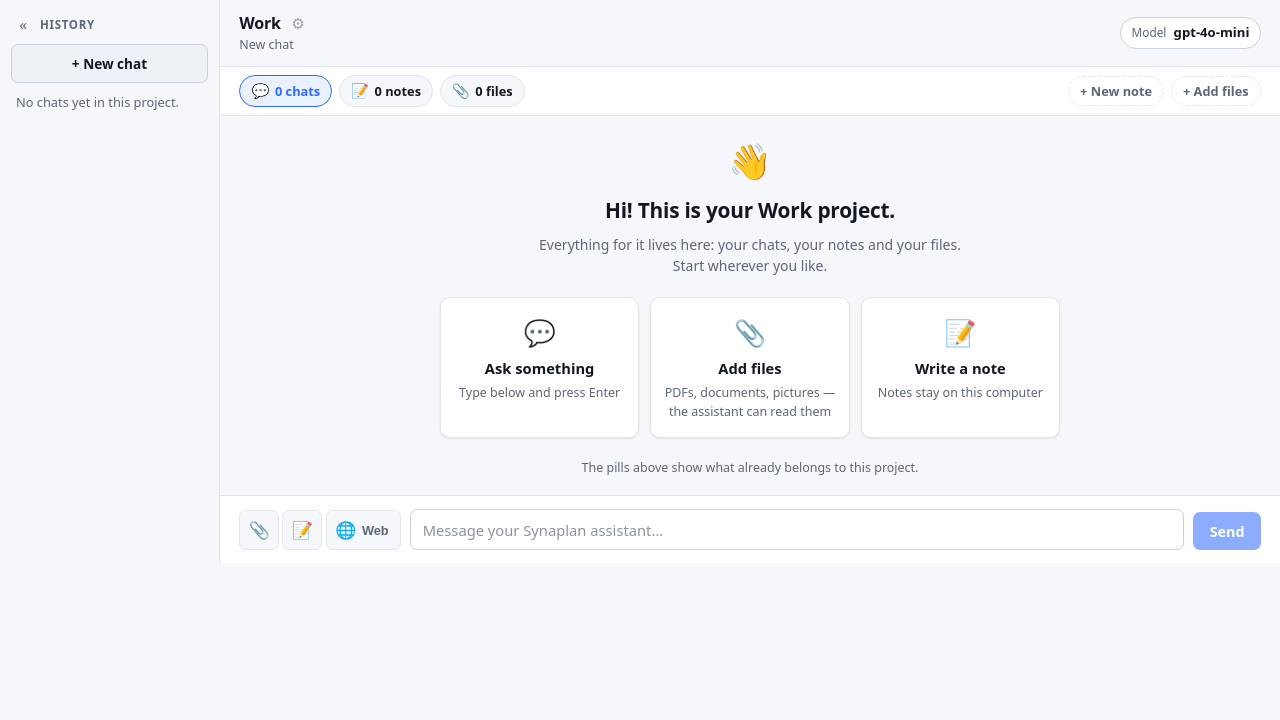
Test: ChatView › renders streamed tokens into an assistant message
The image size is (1280, 720).
Type "Ping" into the text box with placeholder "Message your Synaplan assistant…".
click(797, 530); type("Ping")  # box [410,509,1184,550]
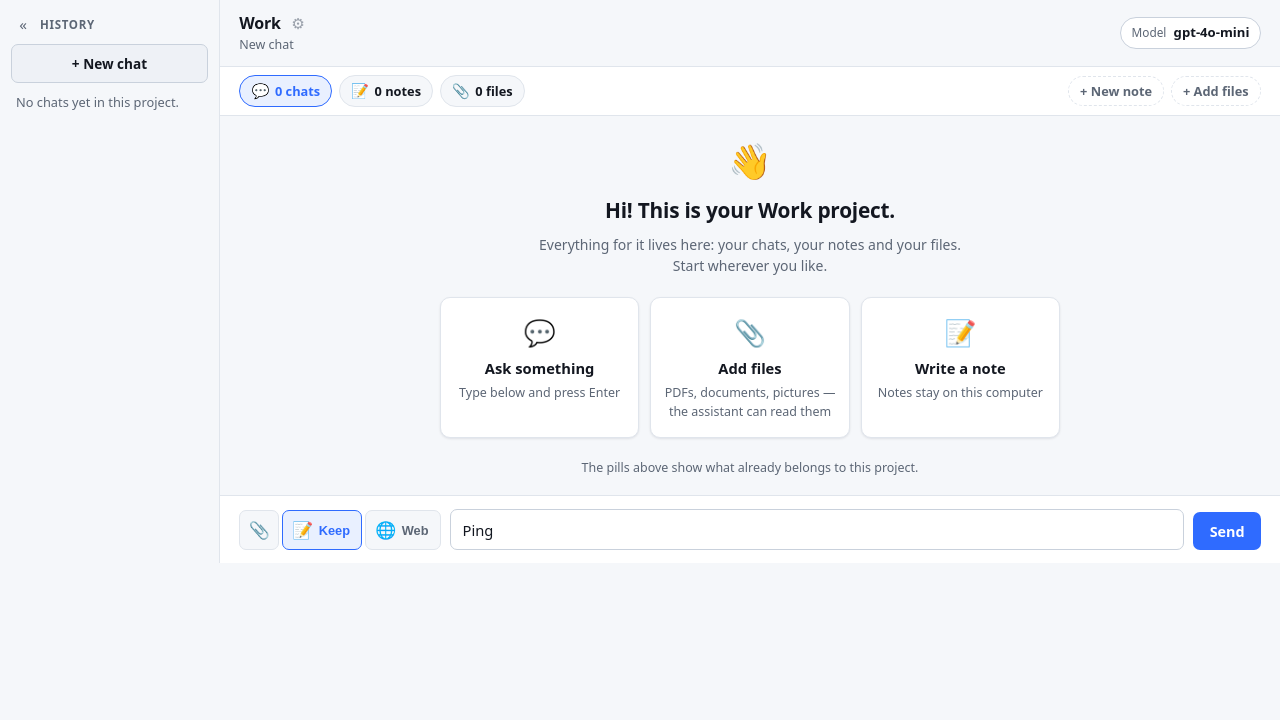
Click the button "Send".
click(1227, 531)  # box [1193,512,1261,550]
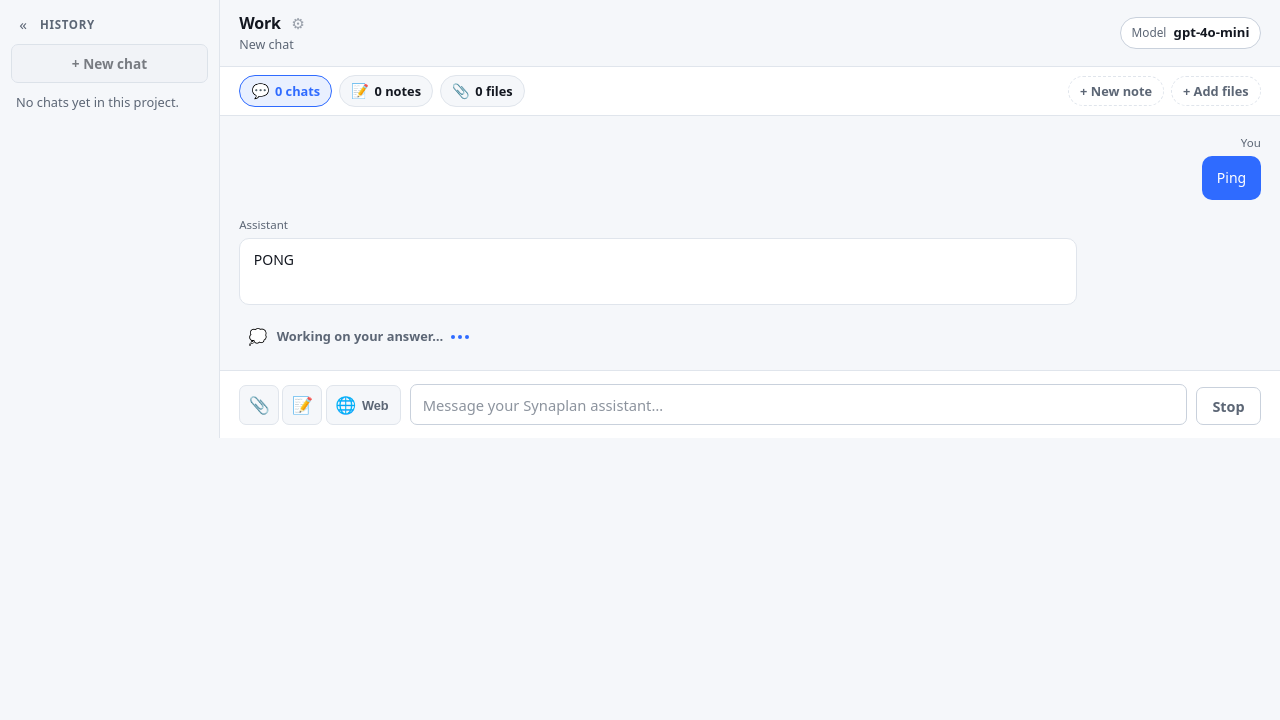
Check: the text "PONG" is shown, box [254,250,294,269]
